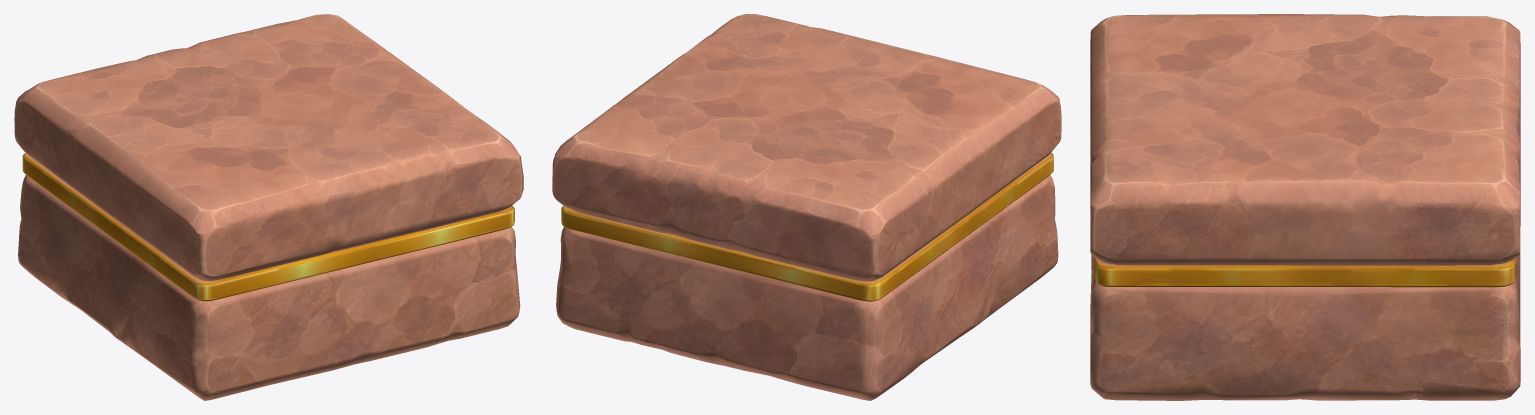
Rendered from corner.glb.
The picture shows the model from 3 angles, left to right: view 1: azimuth 30°, elevation 25°; view 2: azimuth 150°, elevation 25°; view 3: azimuth 270°, elevation 25°; orthographic projection. The views are drawn at different scales.
Bounding box in the file's own units: 0.9551 × 0.5483 × 0.9541.
1 material, 1 textured.
